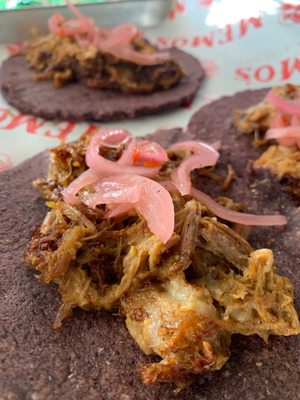soup: (0, 13, 206, 121)
